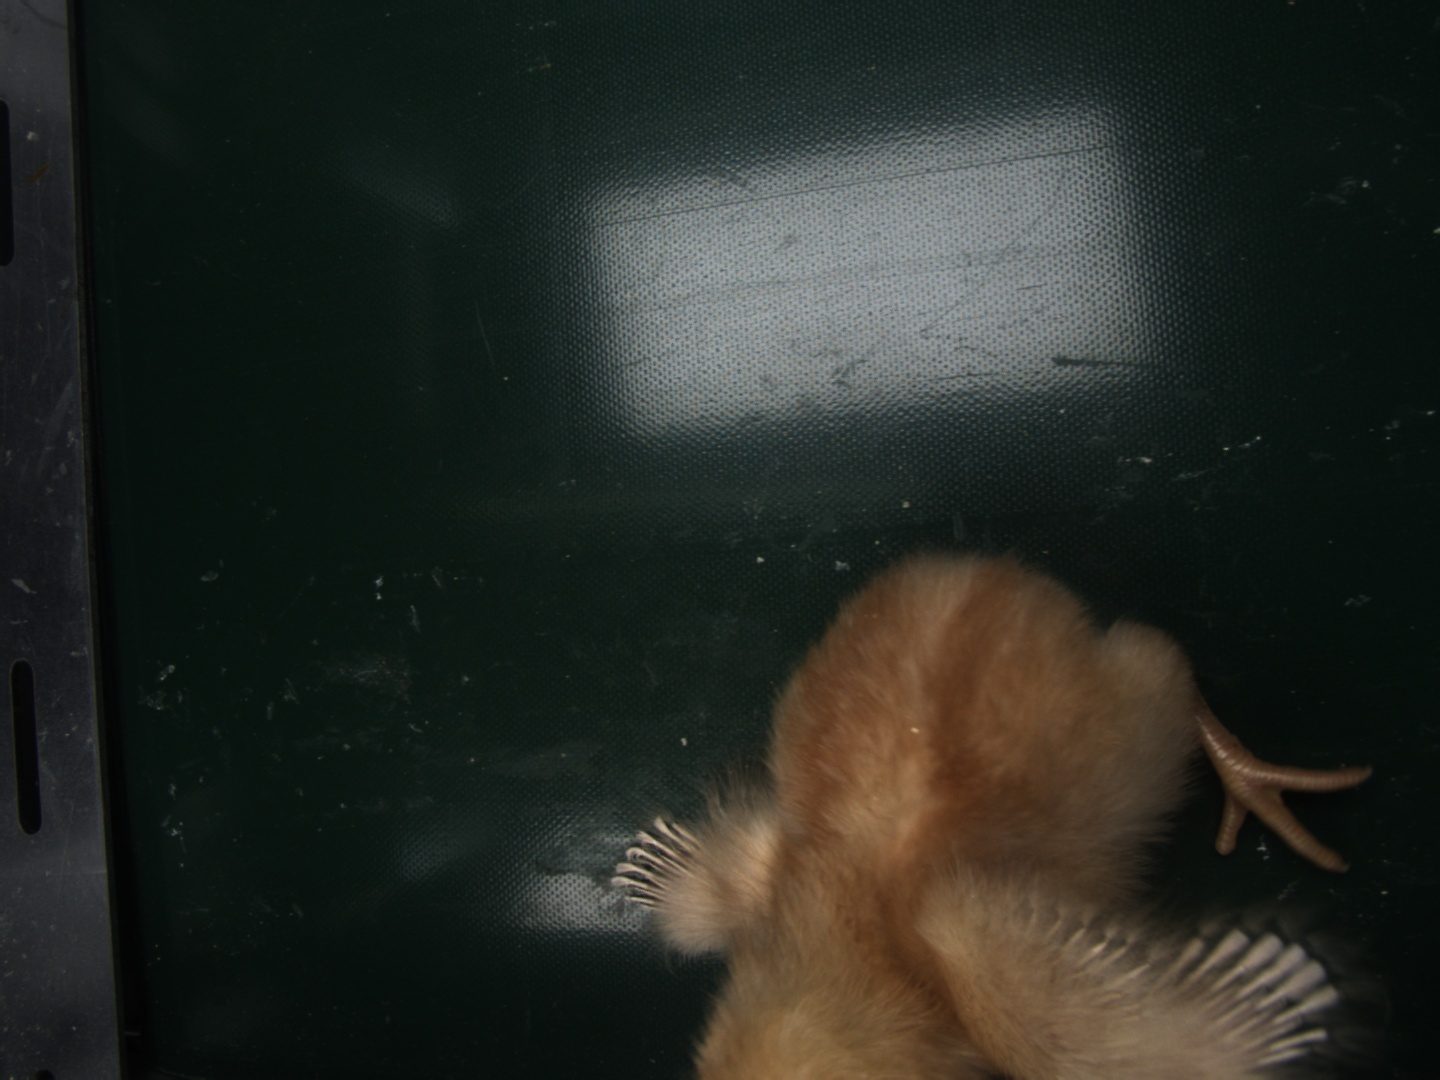female: (608, 818, 697, 909)
